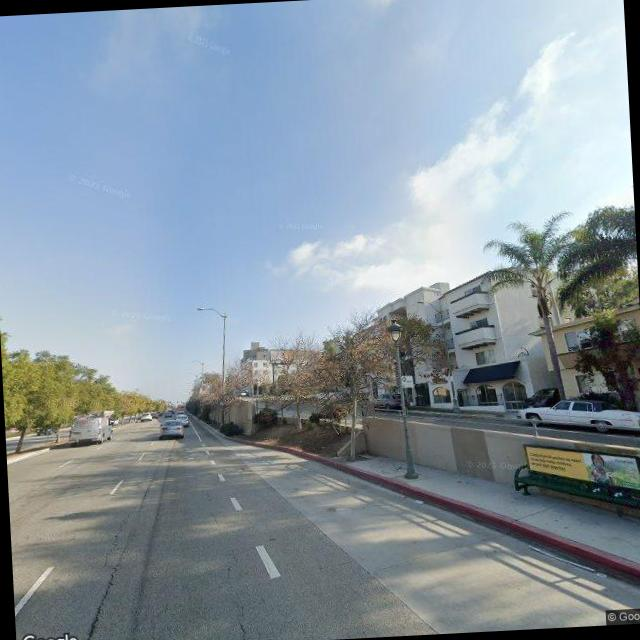pothole: (68, 505, 142, 640), (215, 547, 254, 640)
